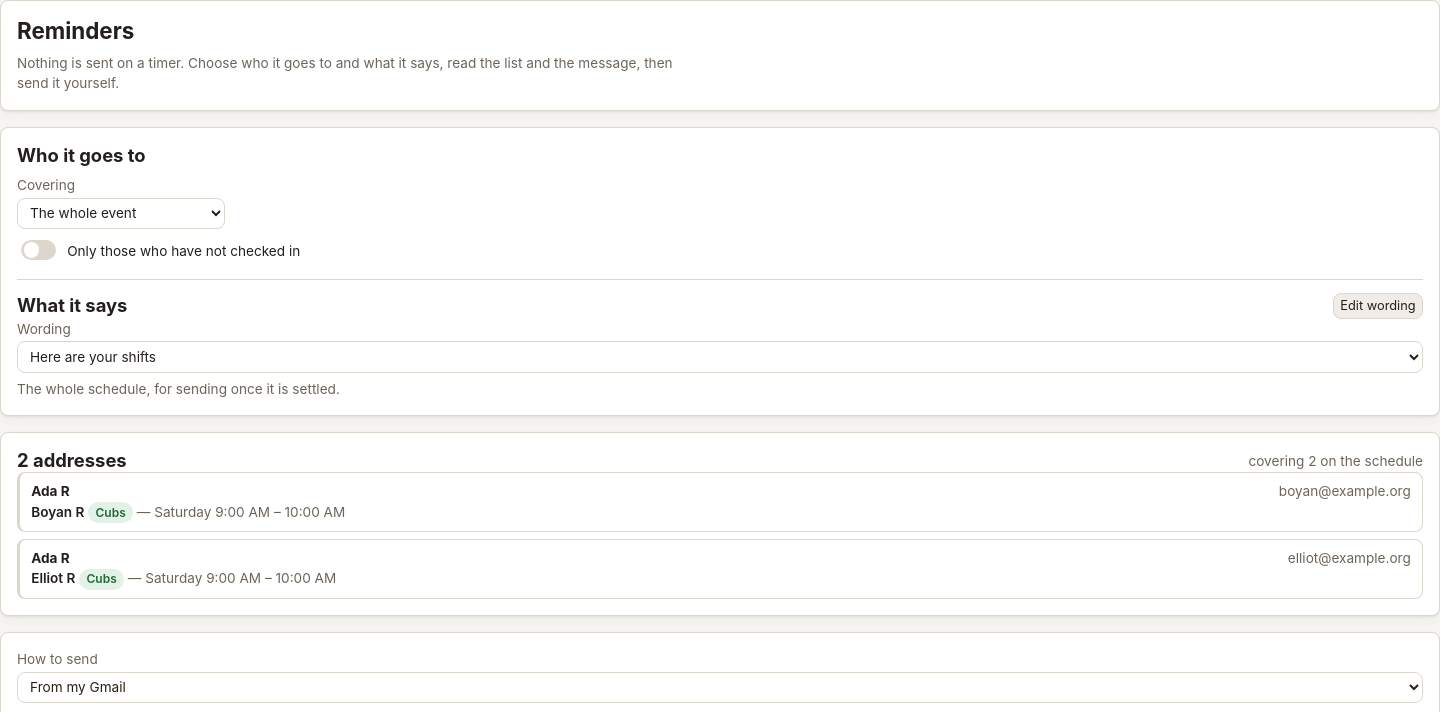
Test: the wording and the filter › can still be turned off deliberately
Select "One day" in the dropdown labelled "Covering". click: (121, 213)
box: top-left (17, 198), bottom-right (225, 229)
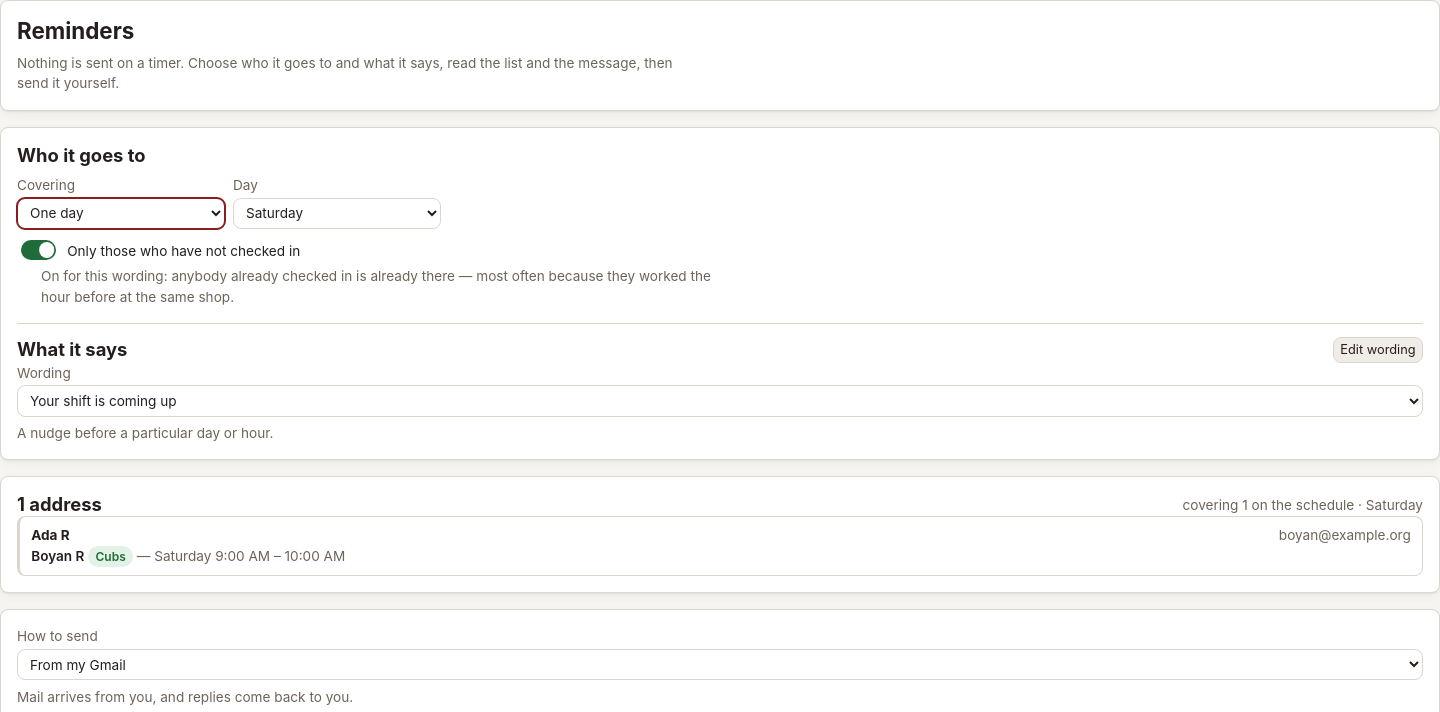
Click the checkbox labelled "Only those who have not checked in". click: (39, 250)
box: top-left (21, 240), bottom-right (56, 260)
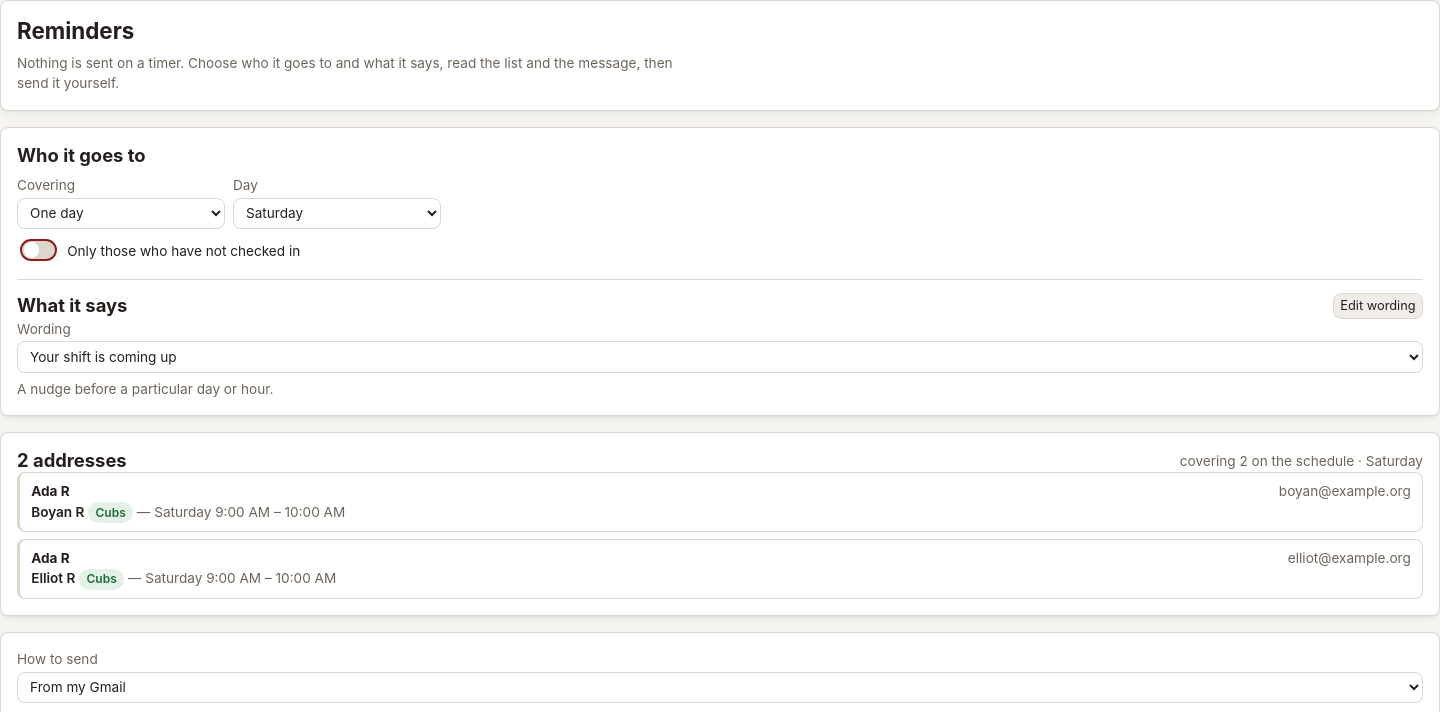
Expected: the text "elliot@example.org" is shown, top-left (1288, 548), bottom-right (1411, 568)
